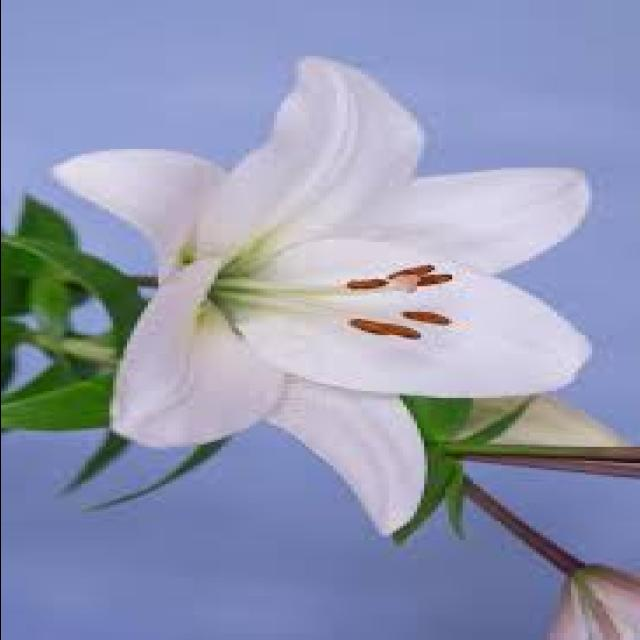lily: (48, 48, 610, 568)
